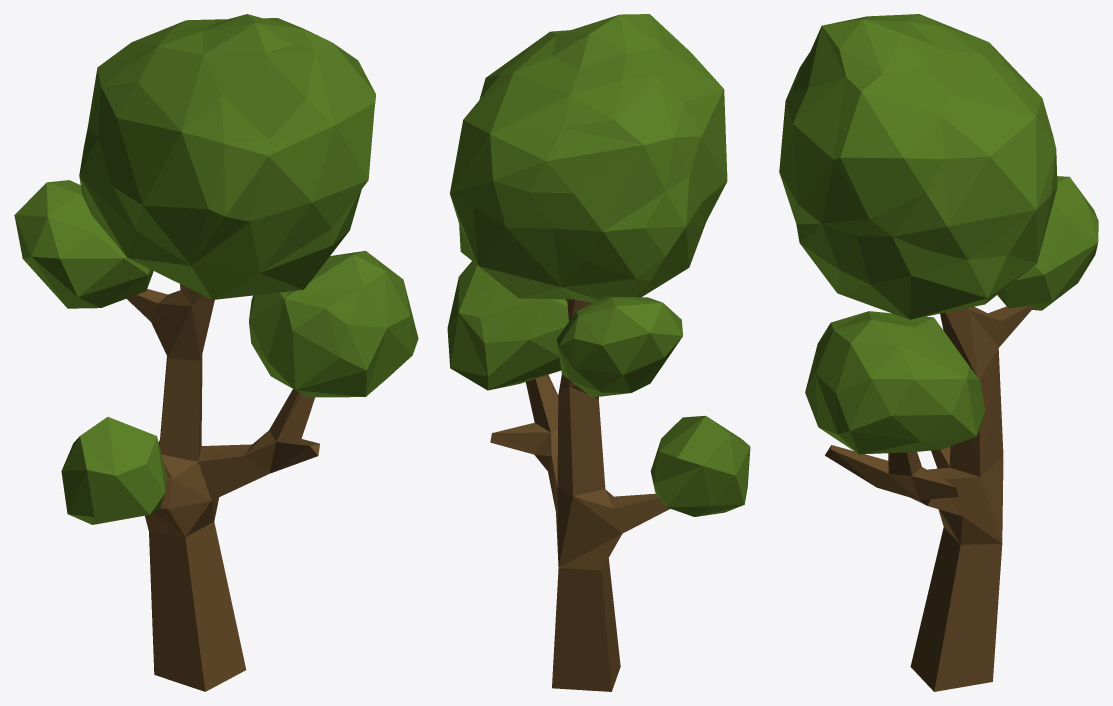
File: Tree1.glb
3 views of the same model, side by side, from view 1: azimuth 30°, elevation 25°; view 2: azimuth 150°, elevation 25°; view 3: azimuth 270°, elevation 25° (orthographic). The views are drawn at different scales.
Parts seen in each view (by area): view 1: Tree1; view 2: Tree1; view 3: Tree1.
Boxes of the visible parts, bbox=[...] form: Tree1: bbox=[14, 14, 418, 691]; Tree1: bbox=[447, 14, 750, 691]; Tree1: bbox=[779, 14, 1098, 691].
Size of the model in its own units: 11.61 by 23.64 by 10.38.
